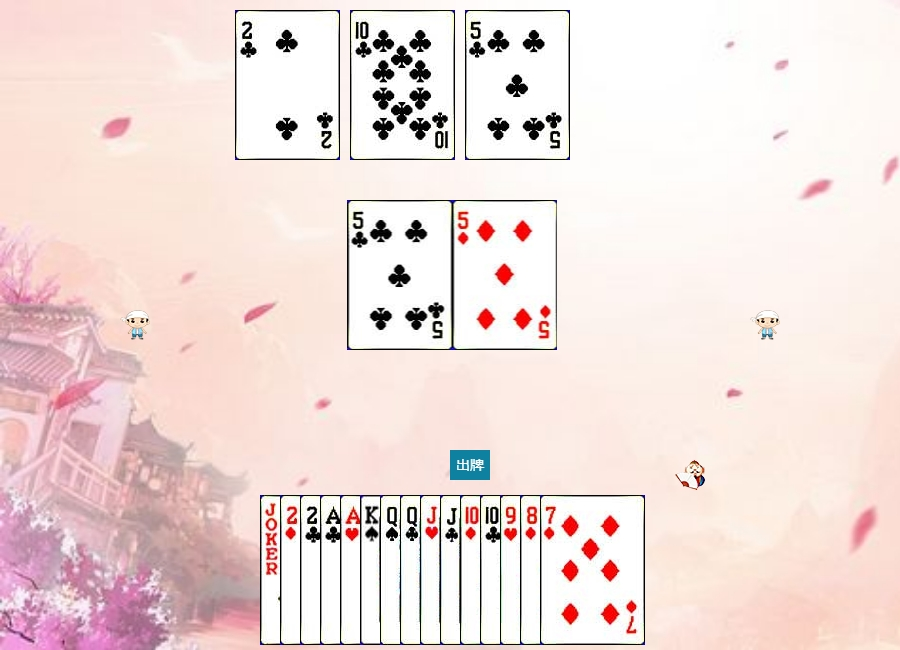10~1: (460, 495, 565, 645)
10~2: (350, 10, 455, 160), (480, 495, 585, 645)
11~2: (440, 495, 545, 645)
11~3: (420, 495, 525, 645)
12~2: (400, 495, 505, 645)
12~4: (380, 495, 485, 645)
13~4: (360, 495, 465, 645)
14~2: (320, 495, 425, 645)
14~3: (340, 495, 445, 645)
15~1: (280, 495, 385, 645)
15~2: (235, 10, 340, 160), (300, 495, 405, 645)
18~4: (260, 495, 365, 645)
5~1: (453, 200, 558, 350)
5~2: (465, 10, 570, 160), (348, 200, 453, 350)
7~1: (540, 495, 645, 645)
8~1: (520, 495, 625, 645)
9~3: (500, 495, 605, 645)
